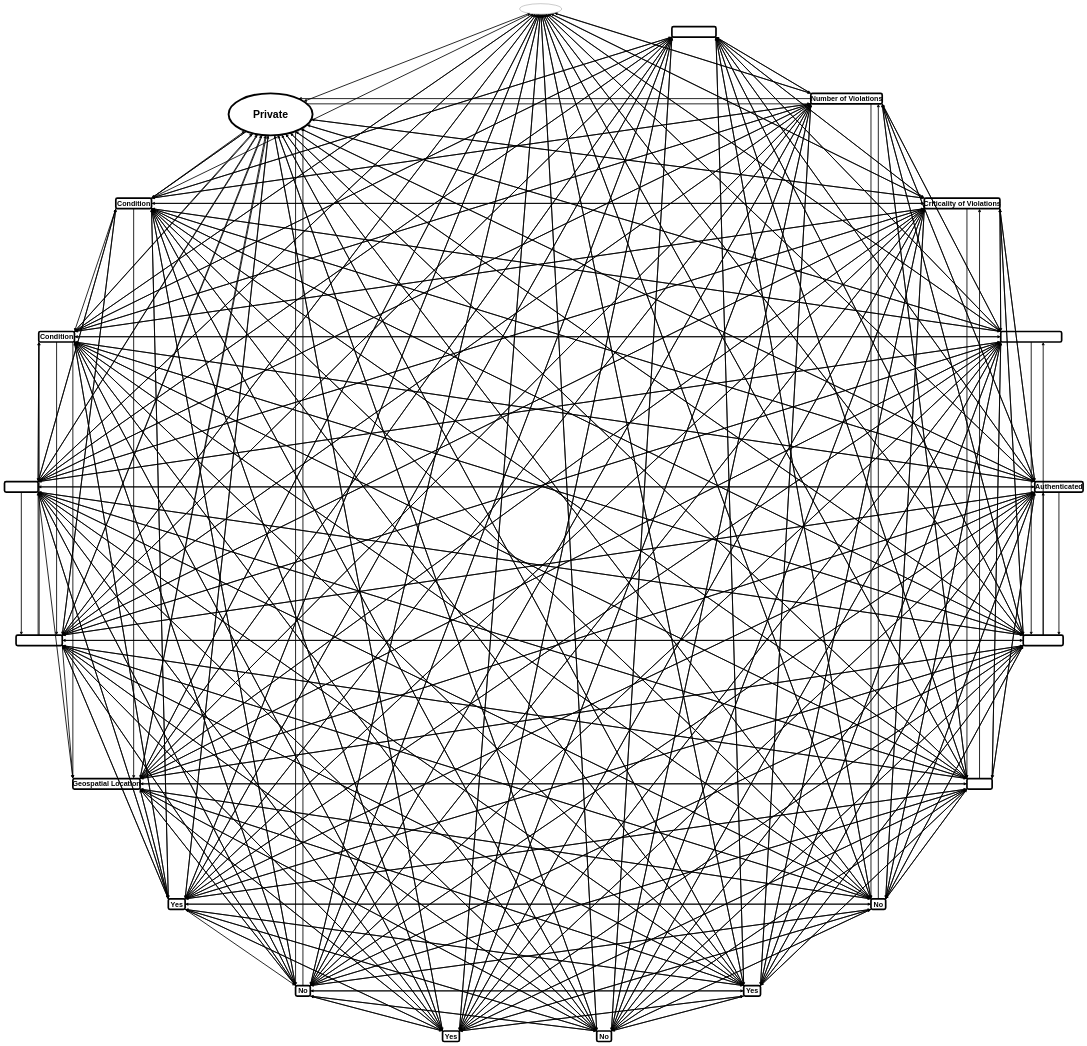
This 1087x1046 diagram has some shape labels left out. The centre of each missing label's shape, as x and y in pixels:
"Commercial" goes at (540,8).
"Government" goes at (694,32).
"Not Authenticated" goes at (1031,337).
"Not Visible" goes at (1043,640).
"Proximity" goes at (21,487).
"UAV Mission" goes at (39,640).
"Visible" goes at (979,784).
